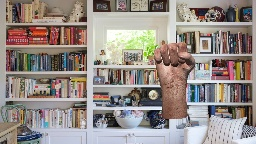Pugno: (150, 40, 196, 84)
